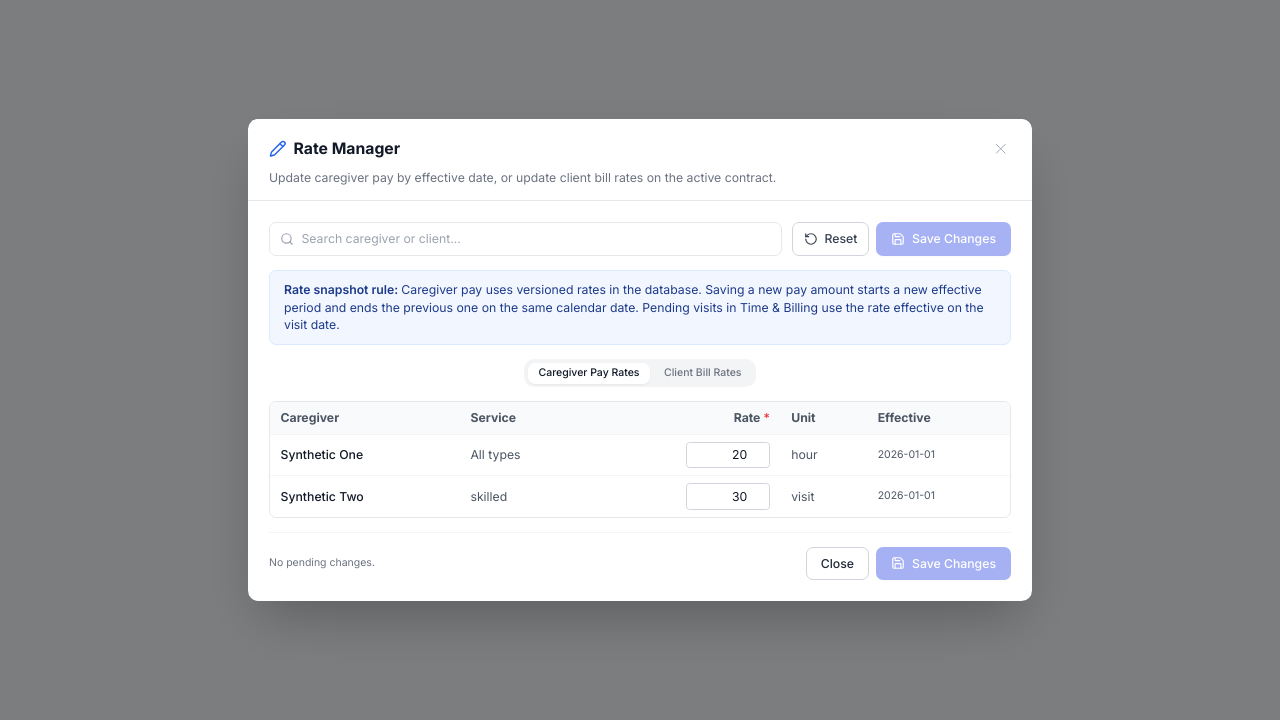
Test case: rate manager submits only changed rows, preserves units, and maps batch errors to the correct field
Replace the text in the number field named "Pay rate for Synthetic Two" with "35.50" at (728, 496), box [686, 483, 770, 510]
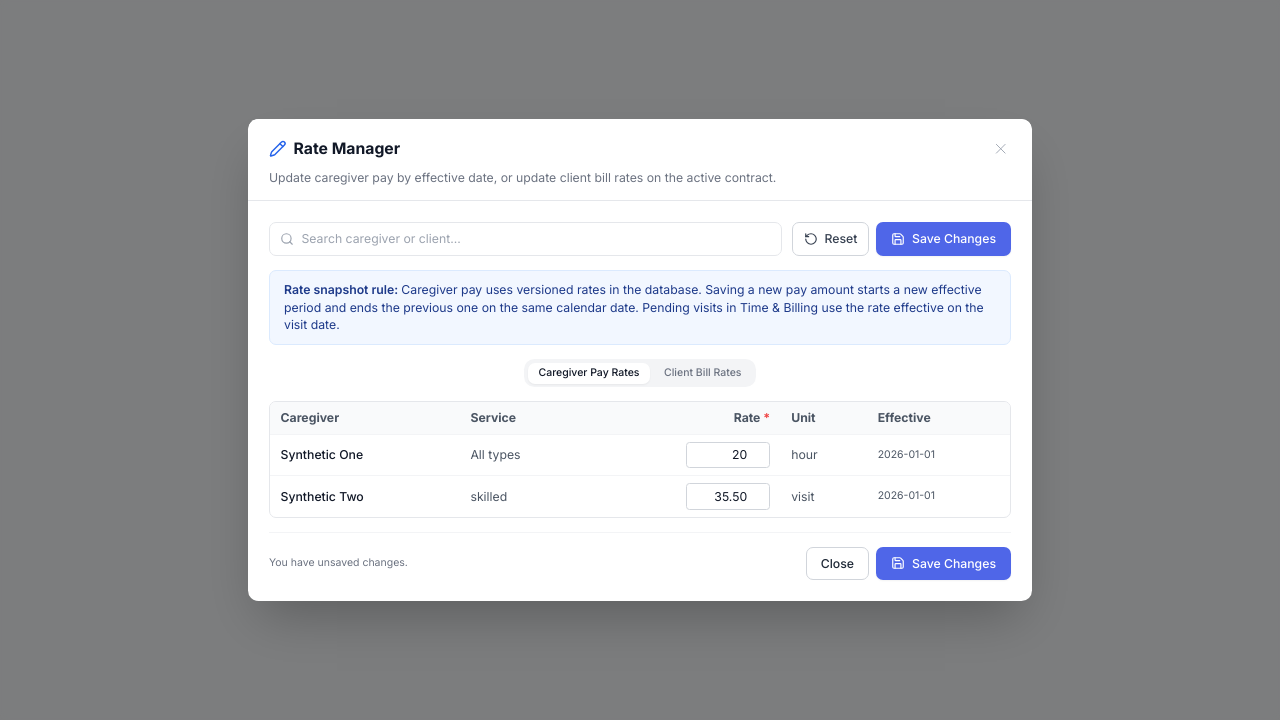
Click the 1st button "Save Changes" at (944, 239), box [876, 222, 1011, 256]
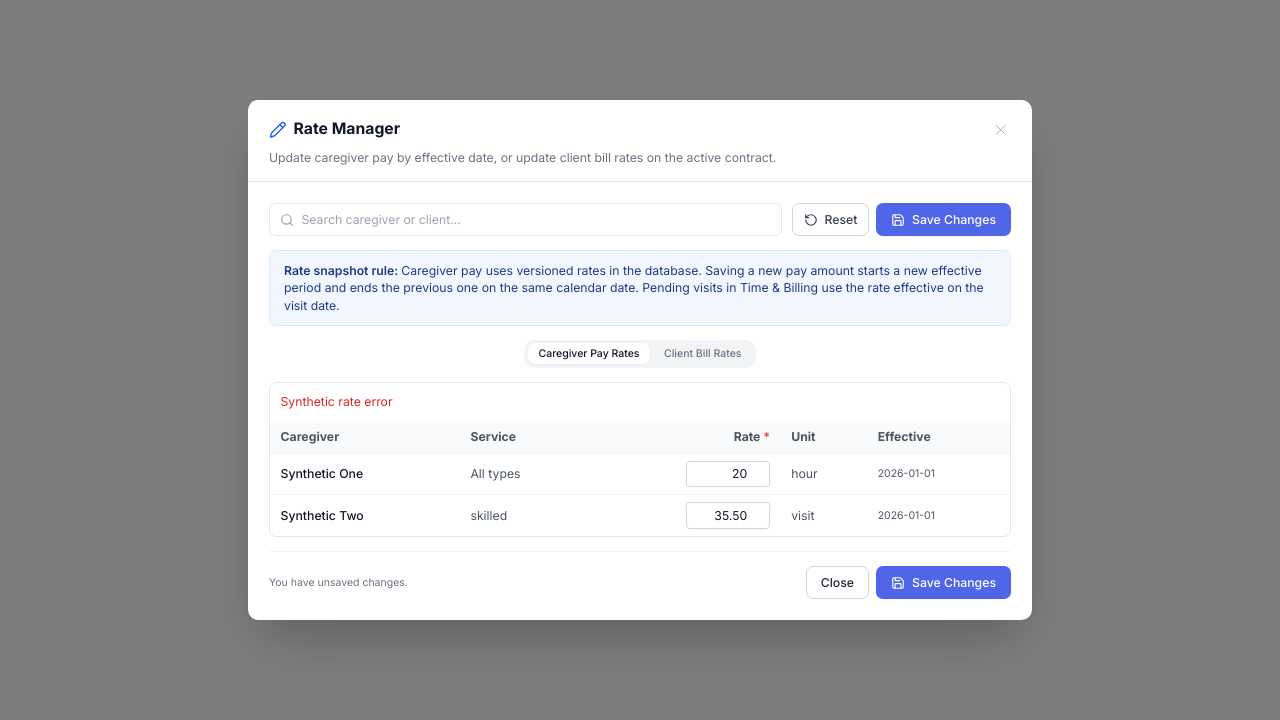
Expected: the text "Synthetic rate error" is shown, [280, 394, 393, 409]
